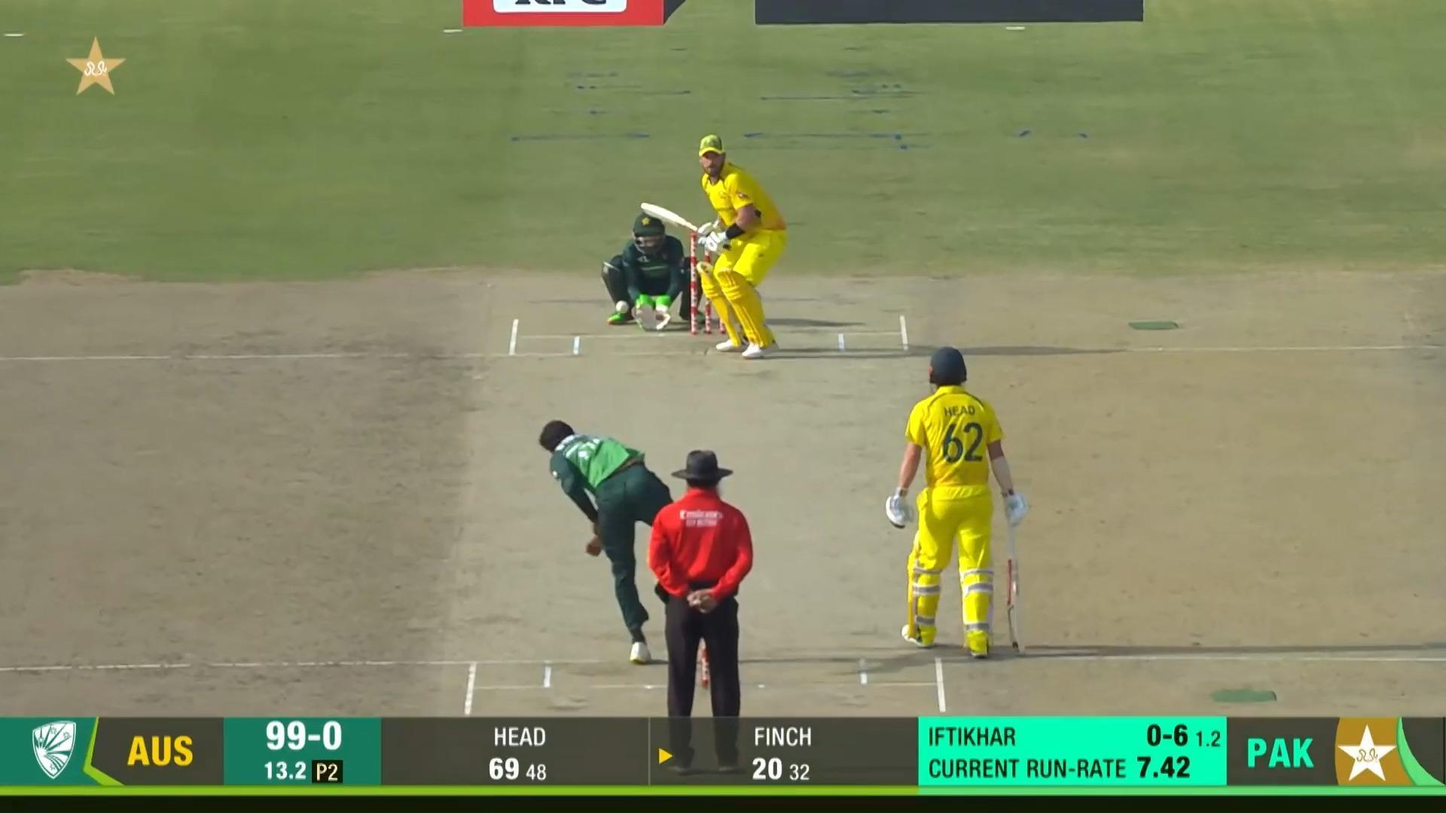BM 1: (638, 135, 790, 359)
BO: (538, 418, 675, 664)
